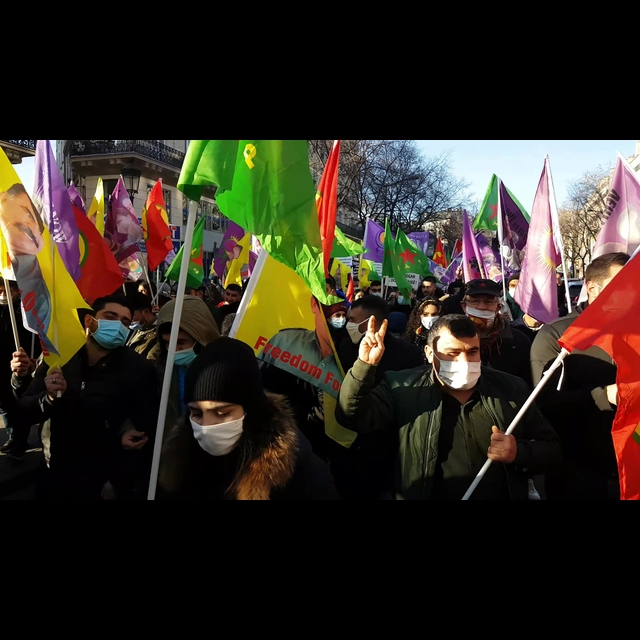ZI: (353, 311, 395, 371)
